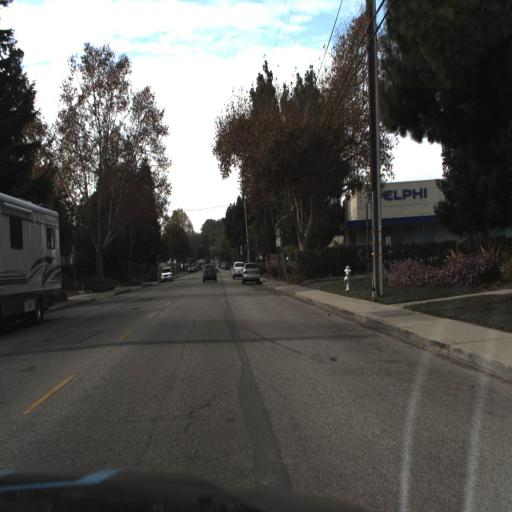car: (240, 260, 261, 288), (240, 259, 261, 286), (200, 263, 218, 287), (158, 263, 176, 284), (230, 257, 244, 281)
truck: (0, 187, 65, 328)
